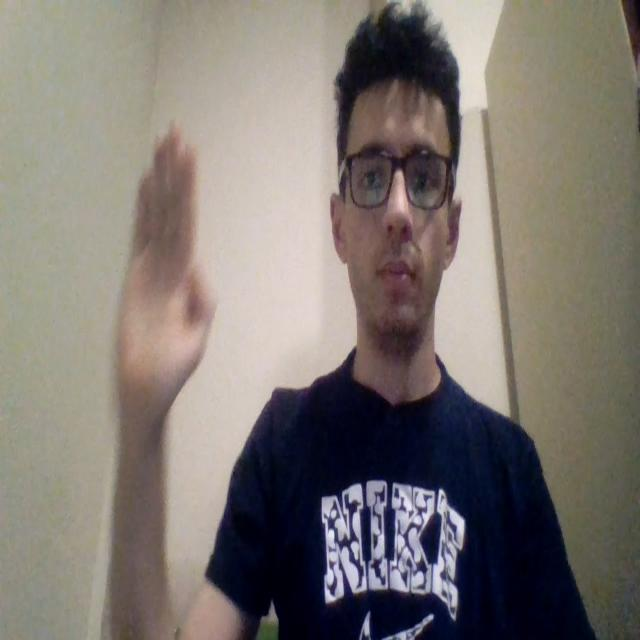hello: (114, 122, 219, 428)
